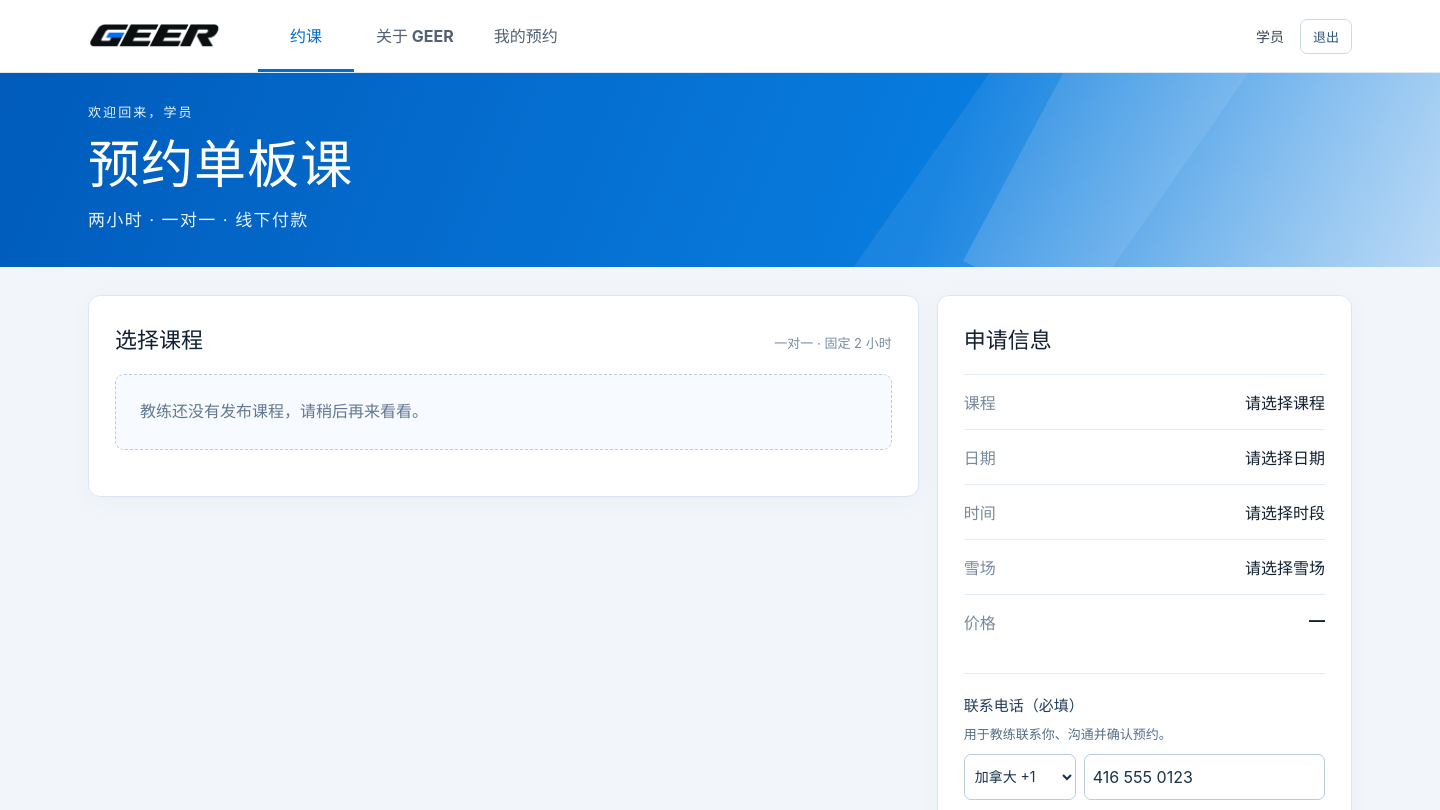
Test: opens completed lesson history and displays all three published sections
What coordinates should you click on to do the following:
click the button "我的预约"
I would click on:
 (526, 36)
Its box is [476,0,576,72].
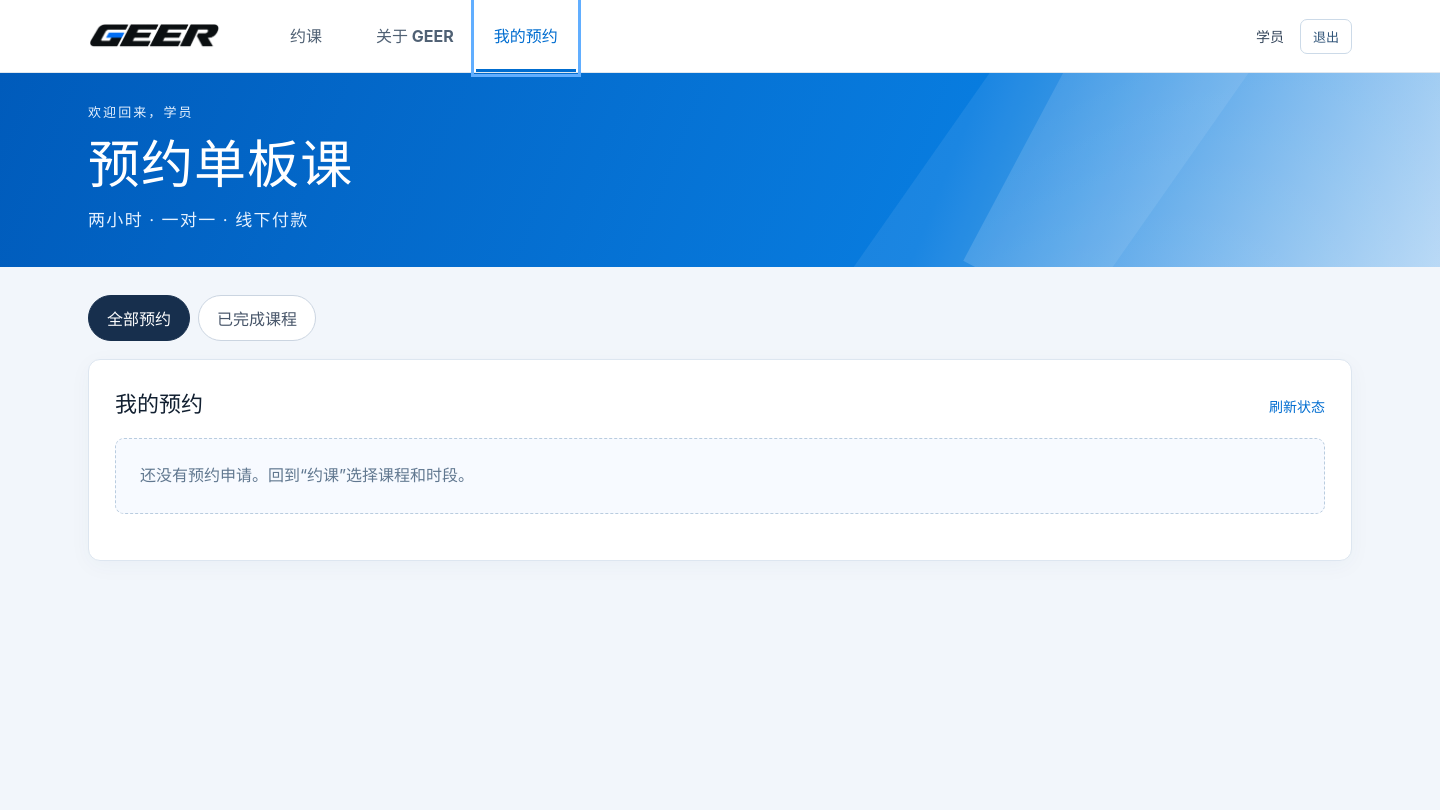
What coordinates should you click on to do the following:
click the button "已完成课程"
I would click on:
 (257, 318)
Its box is [198,295,316,341].
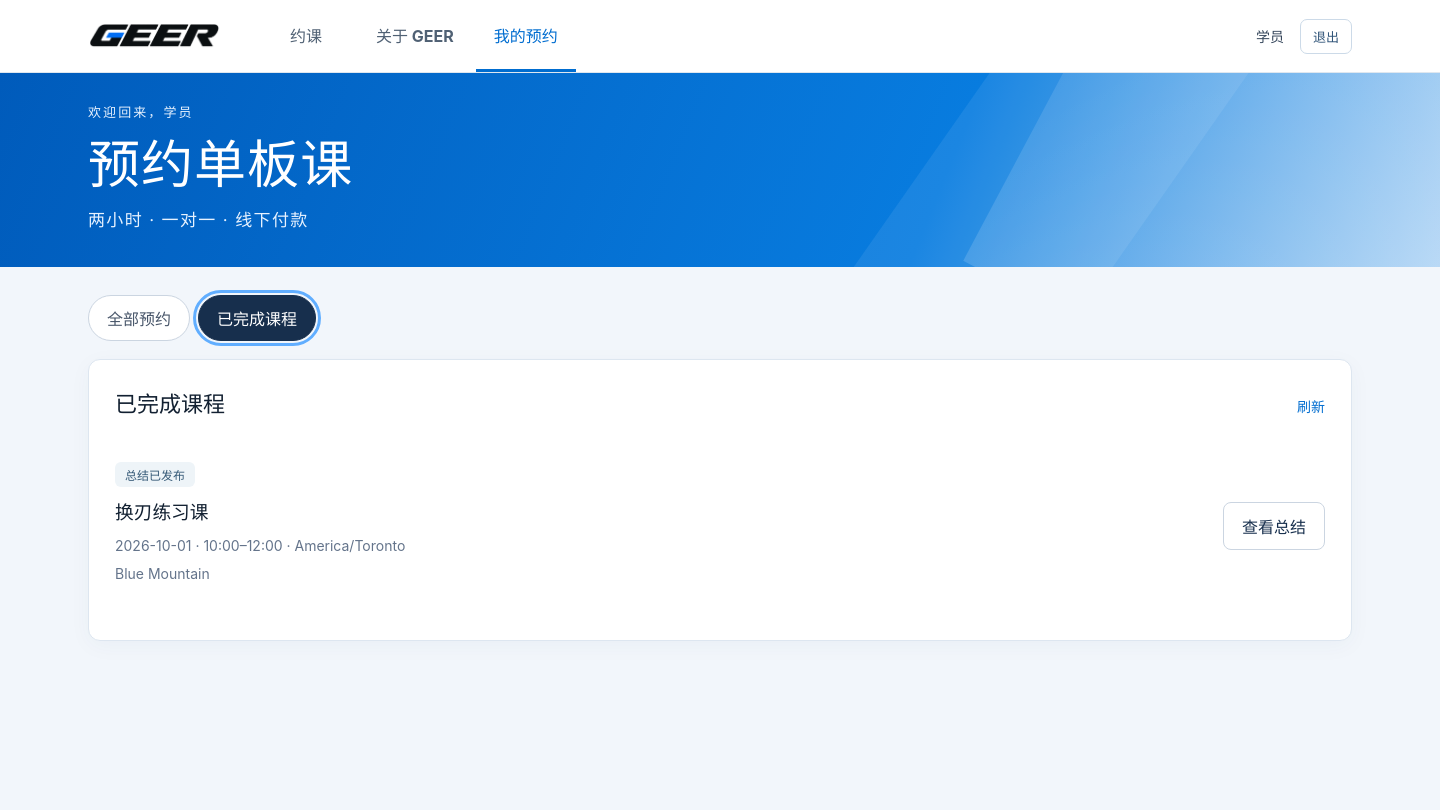
What coordinates should you click on to do the following:
click the button "查看总结"
I would click on:
 (1274, 526)
Its box is [1223,502,1325,550].
(page scrolled)
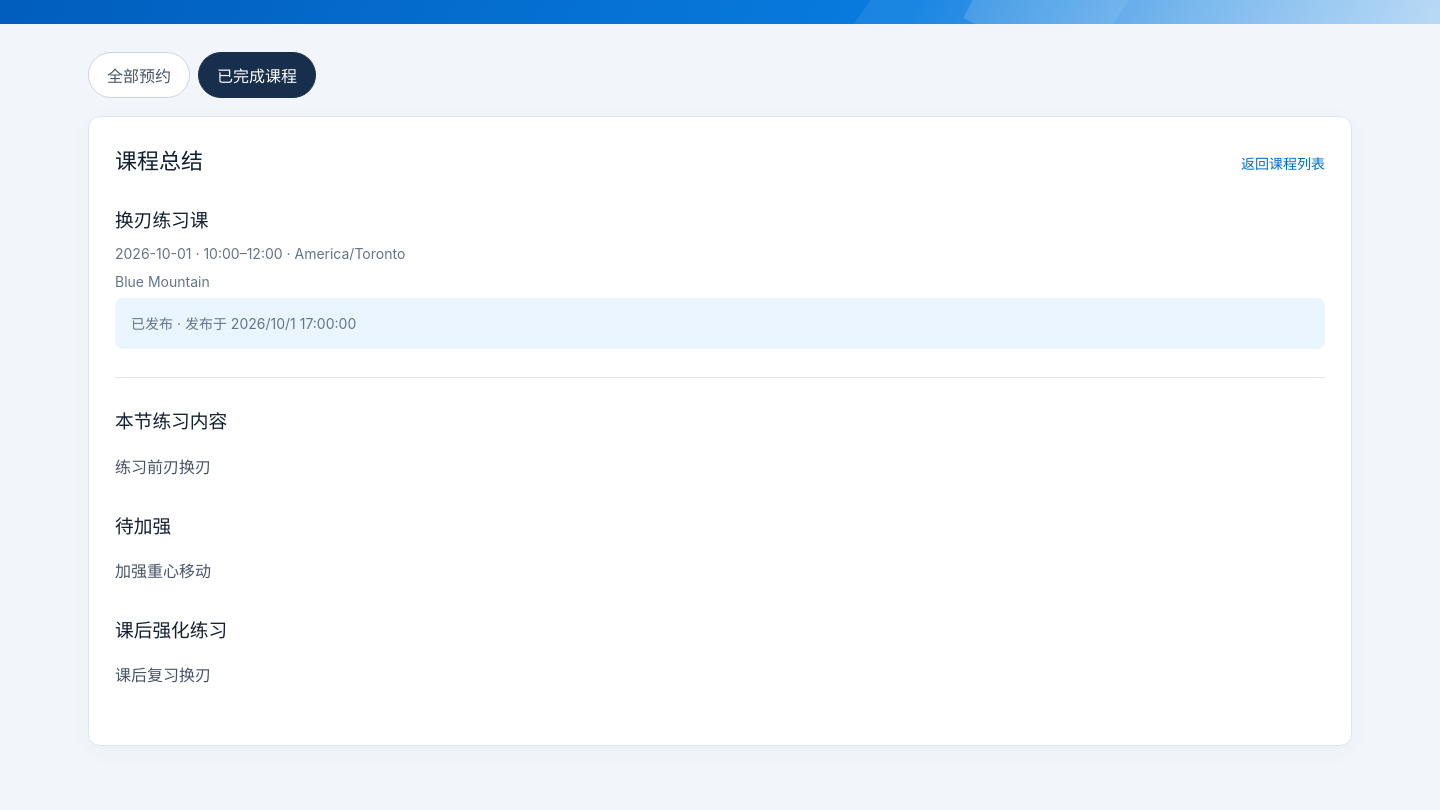
Result: the heading "本节练习内容" is shown at [115,410,227,433]
Result: the heading "待加强" is shown at [115,514,171,538]
Result: the heading "课后强化练习" is shown at [115,619,227,642]
